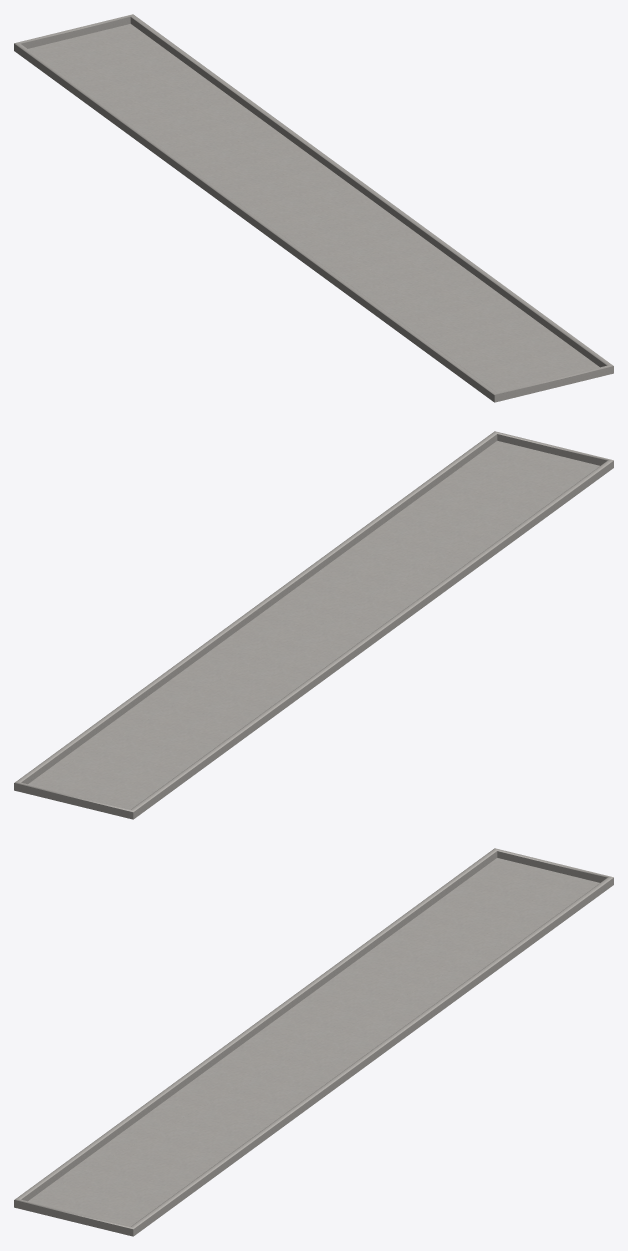
Rendered from Fountain.fbx.
3 renders of one model, top to bottom at view 1: azimuth 30°, elevation 25°; view 2: azimuth 150°, elevation 25°; view 3: azimuth 330°, elevation 25°, orthographic.
Visible parts, largest first — view 1: Cube; view 2: Cube; view 3: Cube.
Boxes of the visible parts, x1=… form: Cube: x1=14, y1=14, x2=613, y2=402; Cube: x1=14, y1=431, x2=613, y2=819; Cube: x1=14, y1=848, x2=613, y2=1236.
Bounding box in the file's own units: 3403 × 224 × 23716.
Materials: 1 (1 with a texture image).
